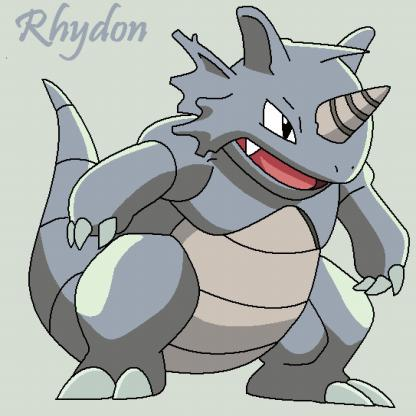Rhydon: (24, 13, 402, 412)
